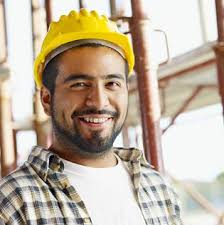hard hat: (31, 10, 135, 79)
